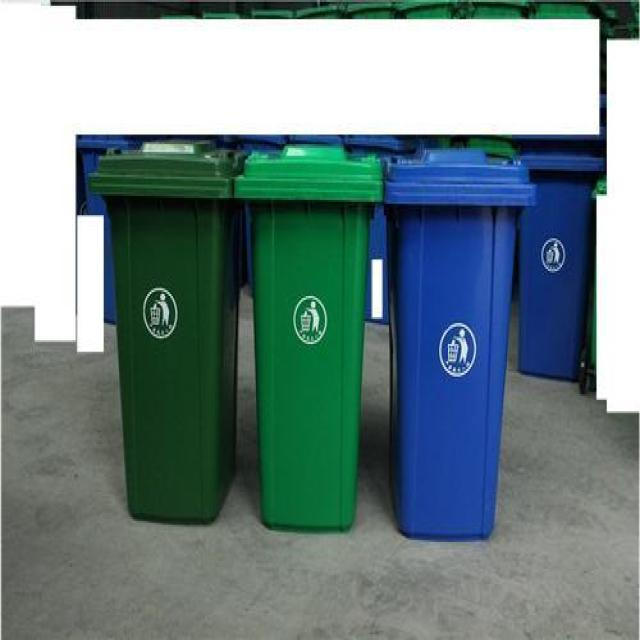garbage_bin: (86, 138, 246, 525), (381, 148, 534, 538), (233, 142, 383, 530), (517, 152, 602, 378)
